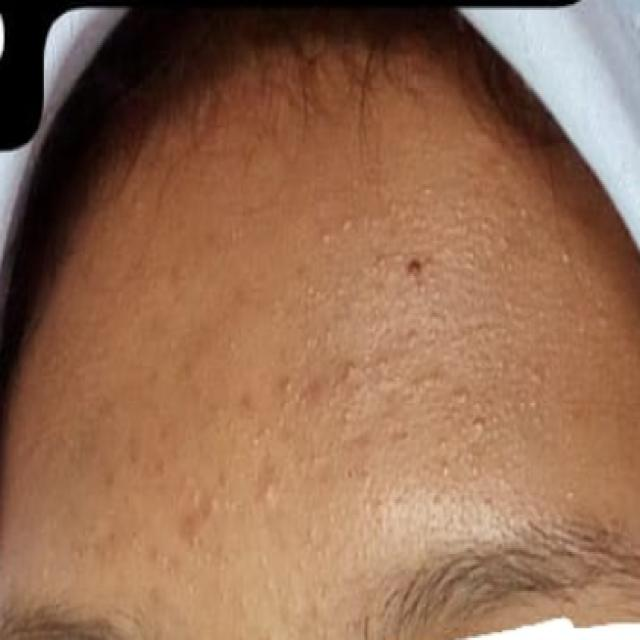fungal: (55, 246, 399, 586)
